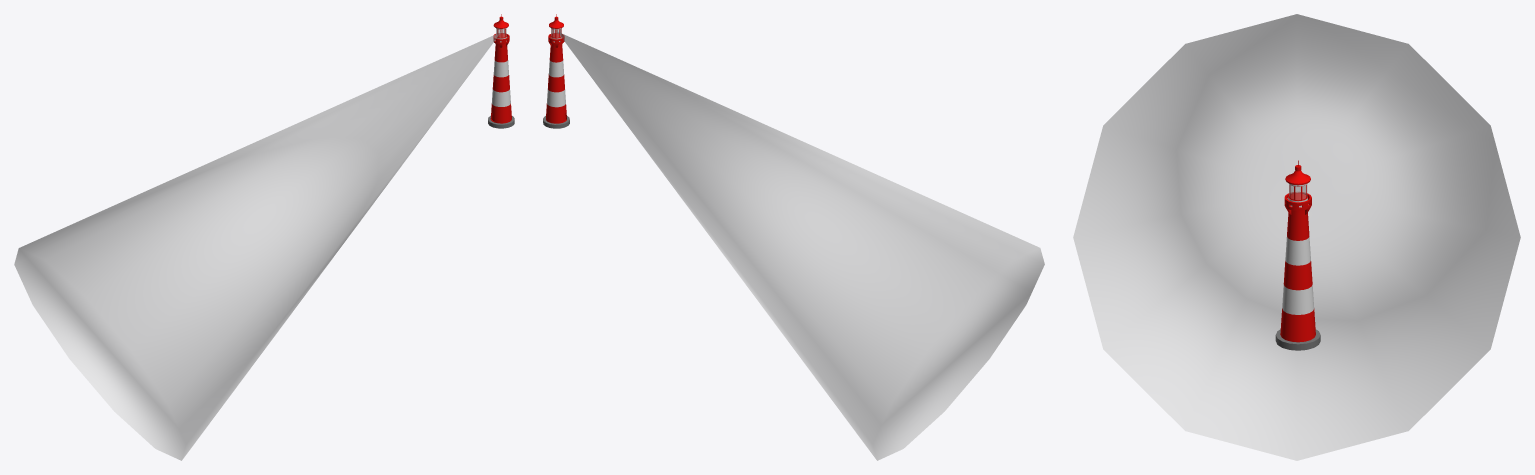
File: LightHouse.fbx
The picture shows the model from 3 angles, left to right: view 1: azimuth 30°, elevation 25°; view 2: azimuth 150°, elevation 25°; view 3: azimuth 270°, elevation 25°; orthographic projection. The views are drawn at different scales.
Visible parts, largest first — view 1: Cone, Cylinder; view 2: Cone, Cylinder; view 3: Cone, Cylinder.
Part boxes in pixels (bbox=[...]): Cone: bbox=[14, 32, 500, 460]; Cylinder: bbox=[488, 14, 514, 128]; Cone: bbox=[557, 31, 1044, 460]; Cylinder: bbox=[543, 14, 569, 128]; Cone: bbox=[1073, 14, 1520, 460]; Cylinder: bbox=[1275, 160, 1320, 350].
Size of the model in its own units: 2520 by 1800 by 1257.
